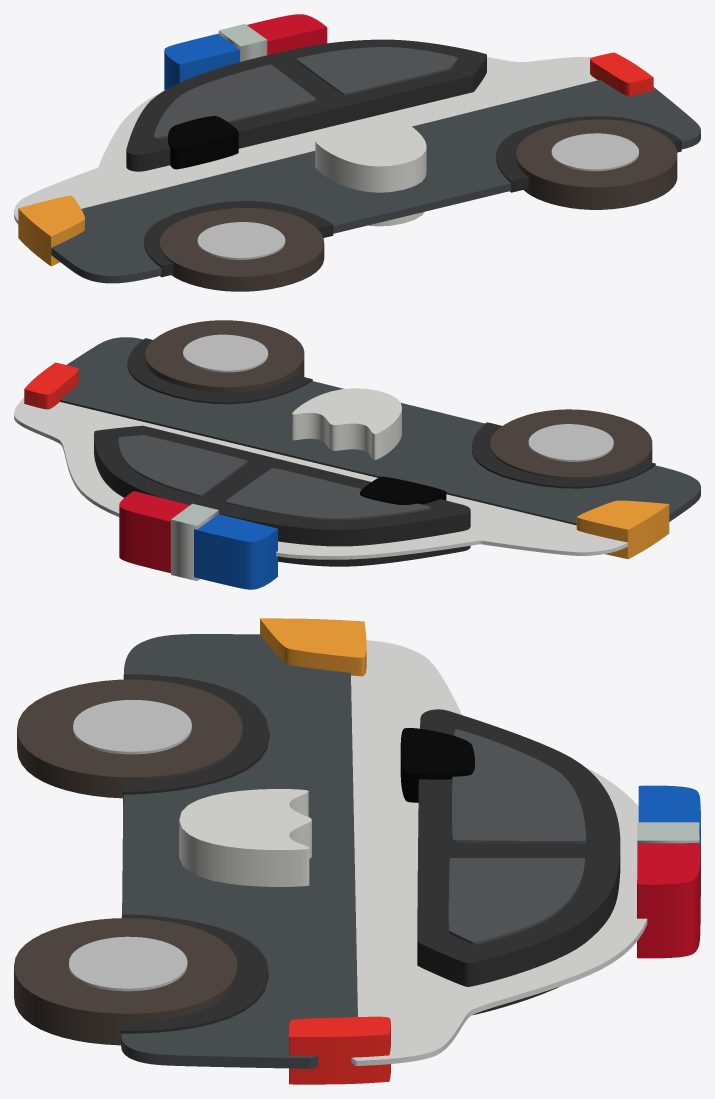
File: emoji_u1f693.glb
3 renders of one model, top to bottom at view 1: azimuth 30°, elevation 25°; view 2: azimuth 150°, elevation 25°; view 3: azimuth 270°, elevation 25°, orthographic. The views are drawn at different scales.
Visible parts, largest first — view 1: emoji_u1f693; view 2: emoji_u1f693; view 3: emoji_u1f693.
Boxes of the visible parts, <box> form: emoji_u1f693: <box>14,14,700,291</box>; emoji_u1f693: <box>14,320,700,589</box>; emoji_u1f693: <box>14,618,700,1084</box>.
Size of the model in its own units: 0.0345 by 0.0032 by 0.0236.
